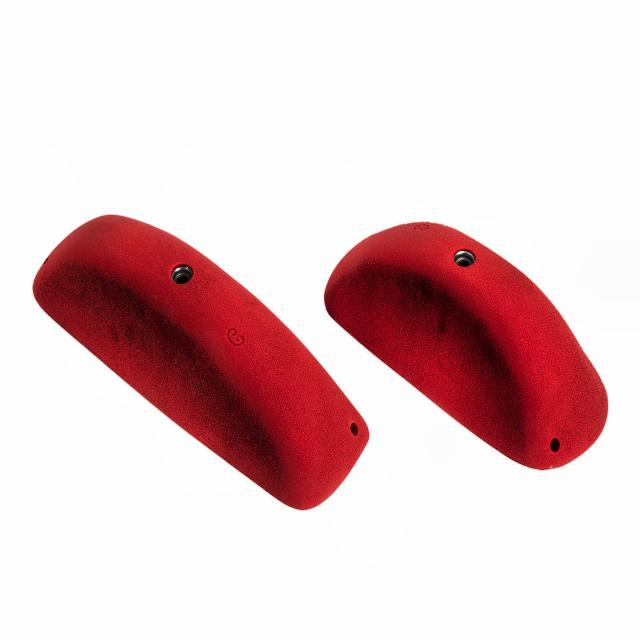Hold: (14, 197, 385, 532), (310, 207, 624, 482)
